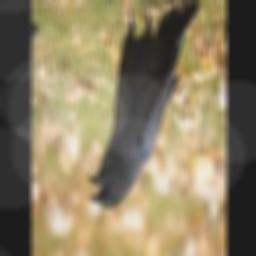Crow: (88, 0, 200, 210)
